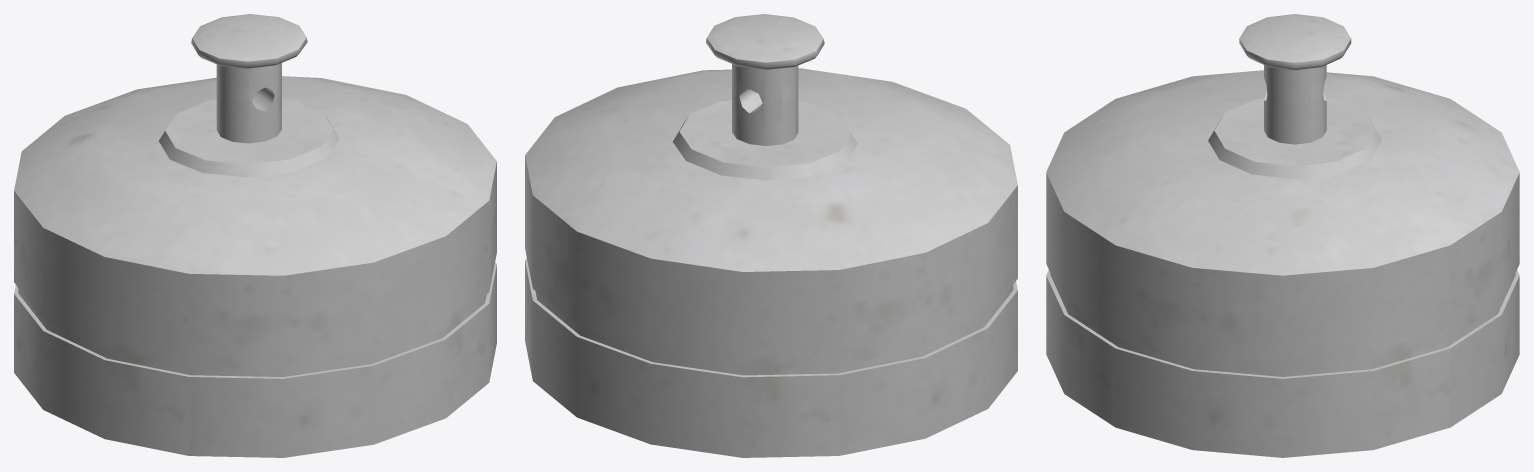
File: SM_反应釜盖.FBX
The picture shows the model from 3 angles, left to right: view 1: azimuth 30°, elevation 25°; view 2: azimuth 150°, elevation 25°; view 3: azimuth 270°, elevation 25°; orthographic projection. The views are drawn at different scales.
Parts seen in each view (by area): view 1: SM_反应釜盖; view 2: SM_反应釜盖; view 3: SM_反应釜盖.
Part boxes in pixels (x1,y1,x2,y2): SM_反应釜盖: [14, 14, 496, 457]; SM_反应釜盖: [525, 14, 1017, 457]; SM_反应釜盖: [1046, 14, 1519, 457].
Bounding box in the file's own units: 101 × 72.45 × 97.57.
